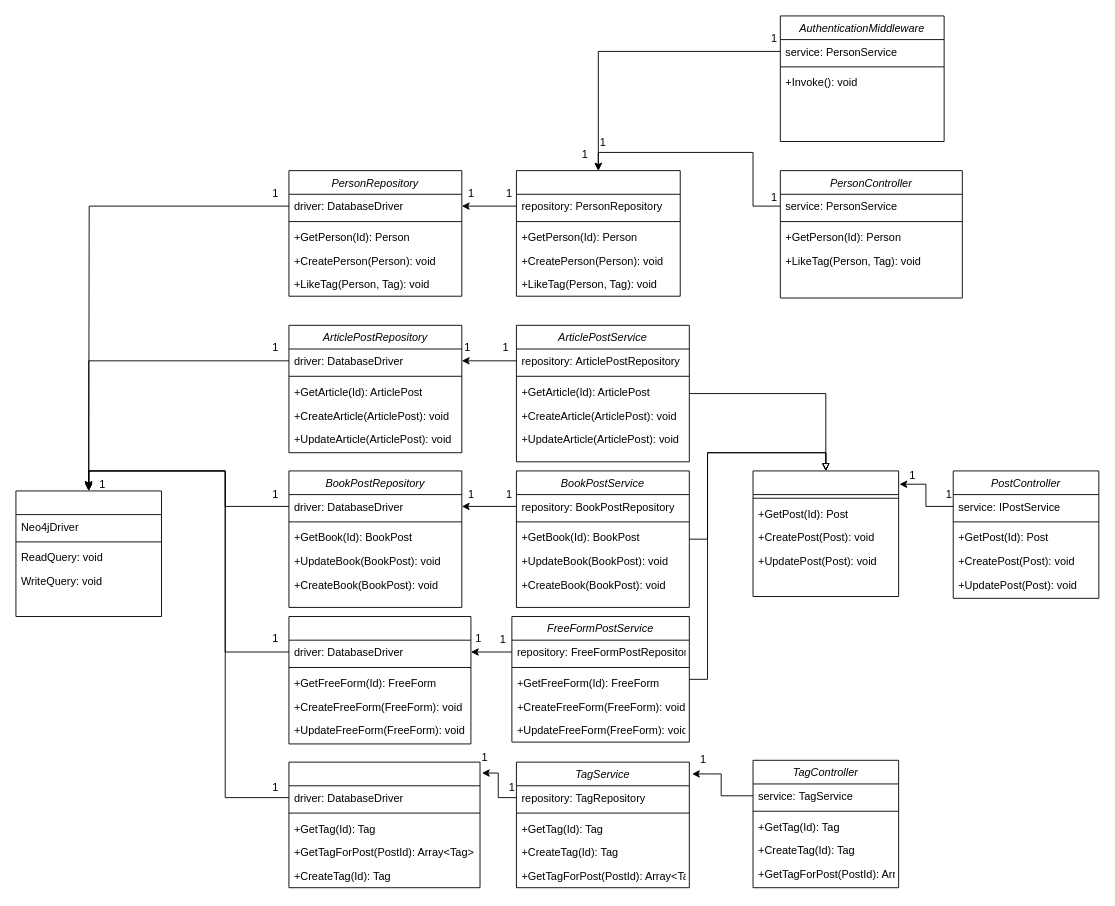
Image size: 1115x906. Some labels were removed from this diagram. The box of each missing label's shape, as (x1, y1, x2, y2) in pixels:
DatabaseDriver: (15, 490, 162, 617)
FreeFormPostRepository: (288, 616, 471, 744)
IPostService: (752, 470, 899, 597)
PersonService: (516, 170, 680, 296)
TagRepository: (288, 761, 480, 888)
